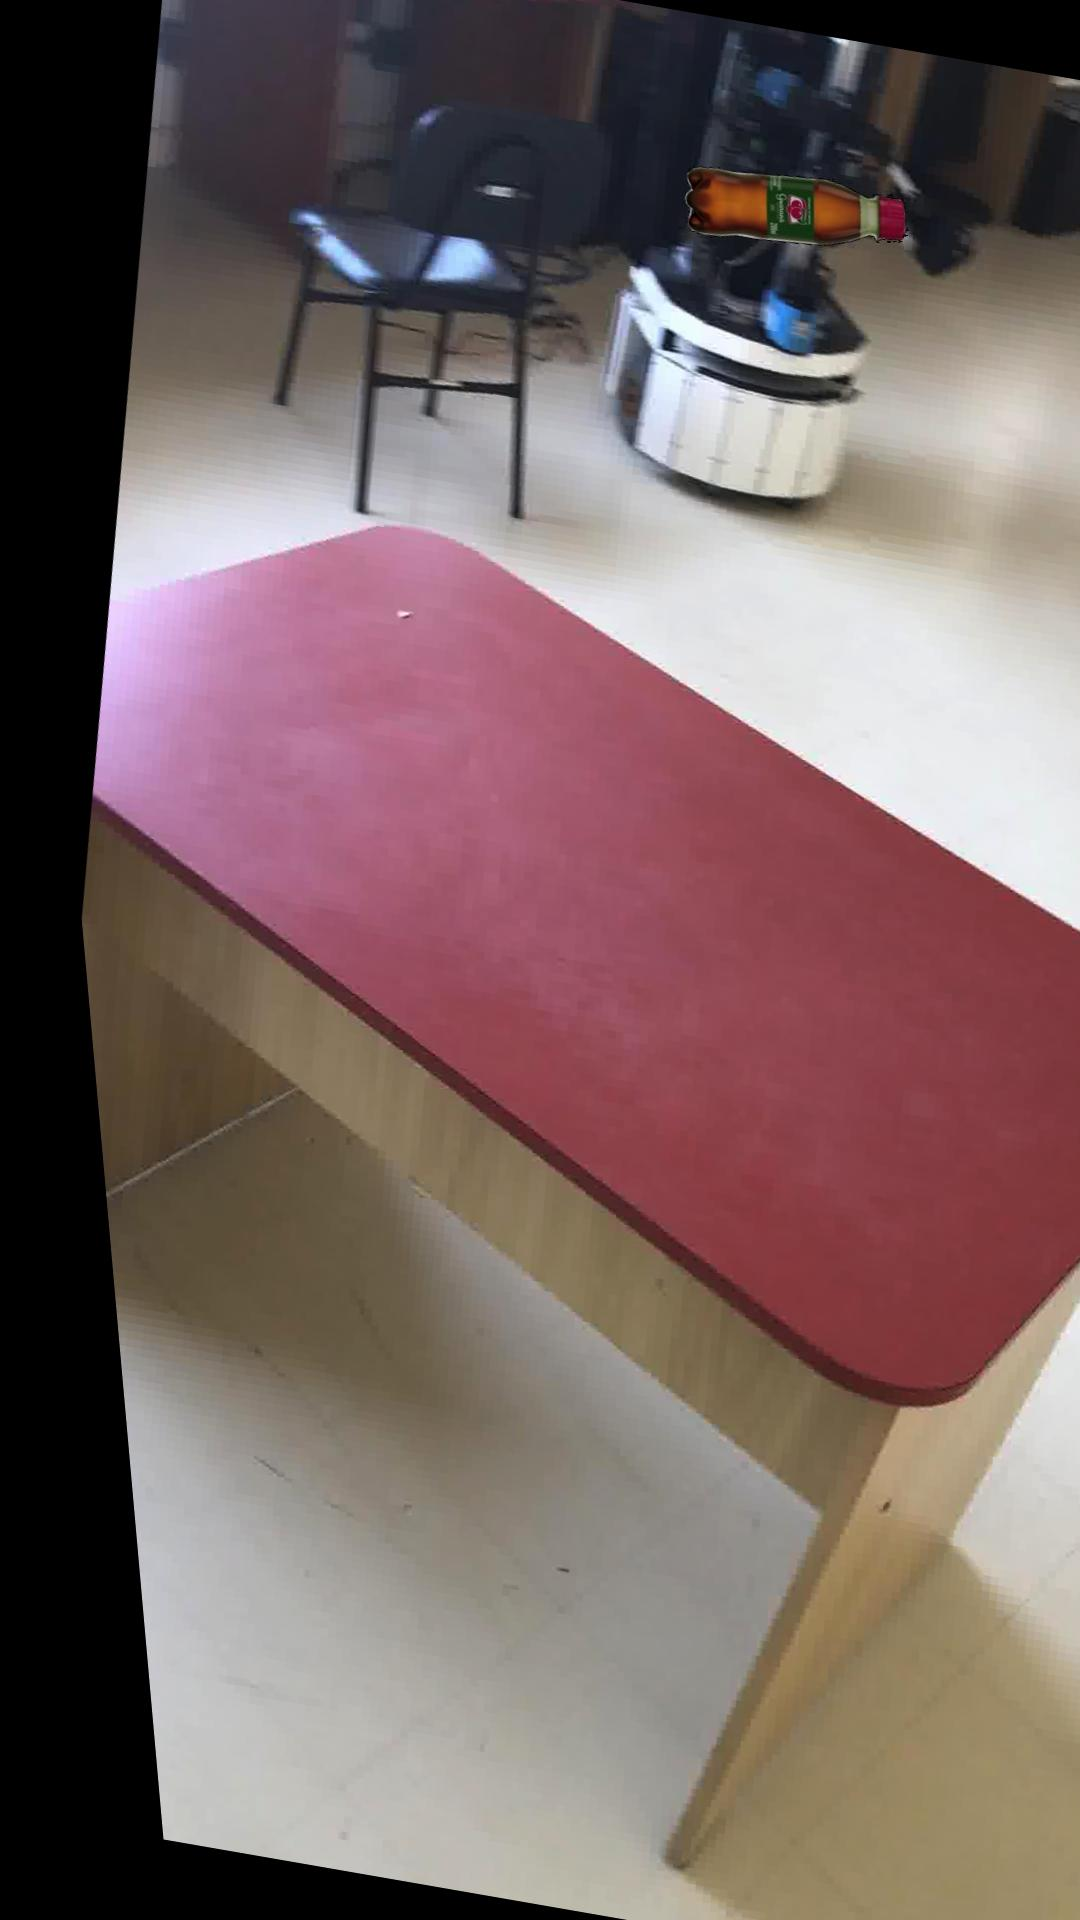guarana: (678, 164, 902, 243)
